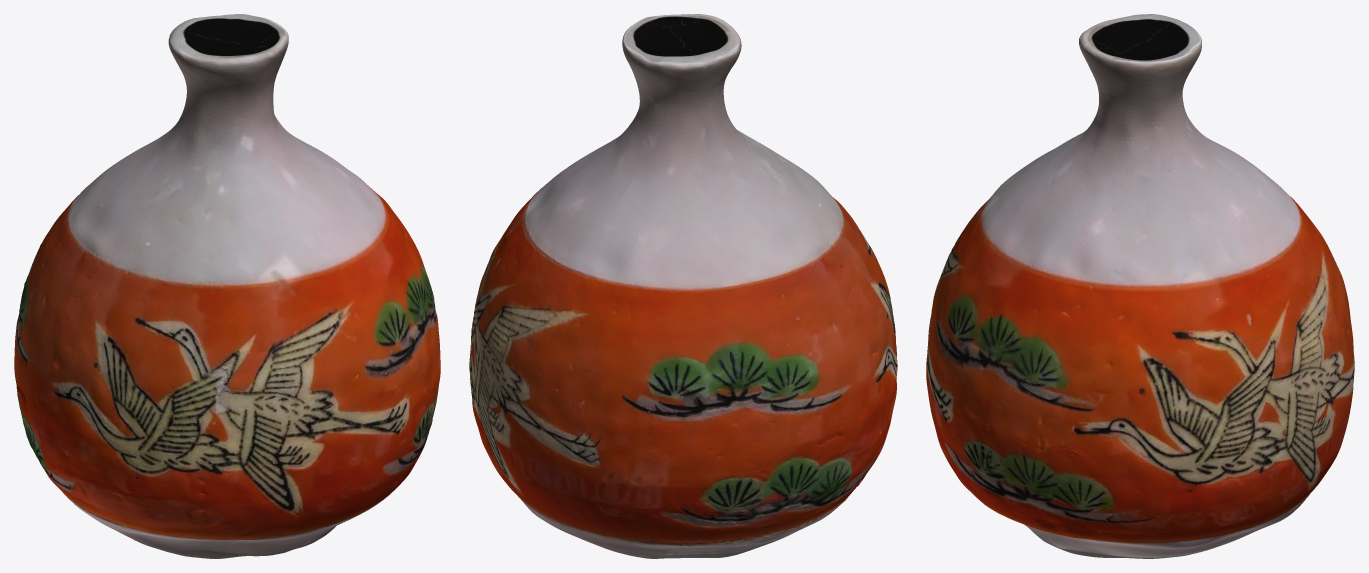
File: tsuru-no-tokkuri.glb
The picture shows the model from 3 angles, left to right: view 1: azimuth 30°, elevation 25°; view 2: azimuth 150°, elevation 25°; view 3: azimuth 270°, elevation 25°; orthographic projection.
Parts seen in each view (by area): view 1: Mesh_0; view 2: Mesh_0; view 3: Mesh_0.
Part boxes in pixels (bbox=[...]): Mesh_0: bbox=[14, 14, 440, 558]; Mesh_0: bbox=[469, 14, 897, 558]; Mesh_0: bbox=[926, 14, 1354, 558].
Bounding box in the file's own units: 0.0912 × 0.1143 × 0.0909.
Materials: 1 (1 with a texture image).
